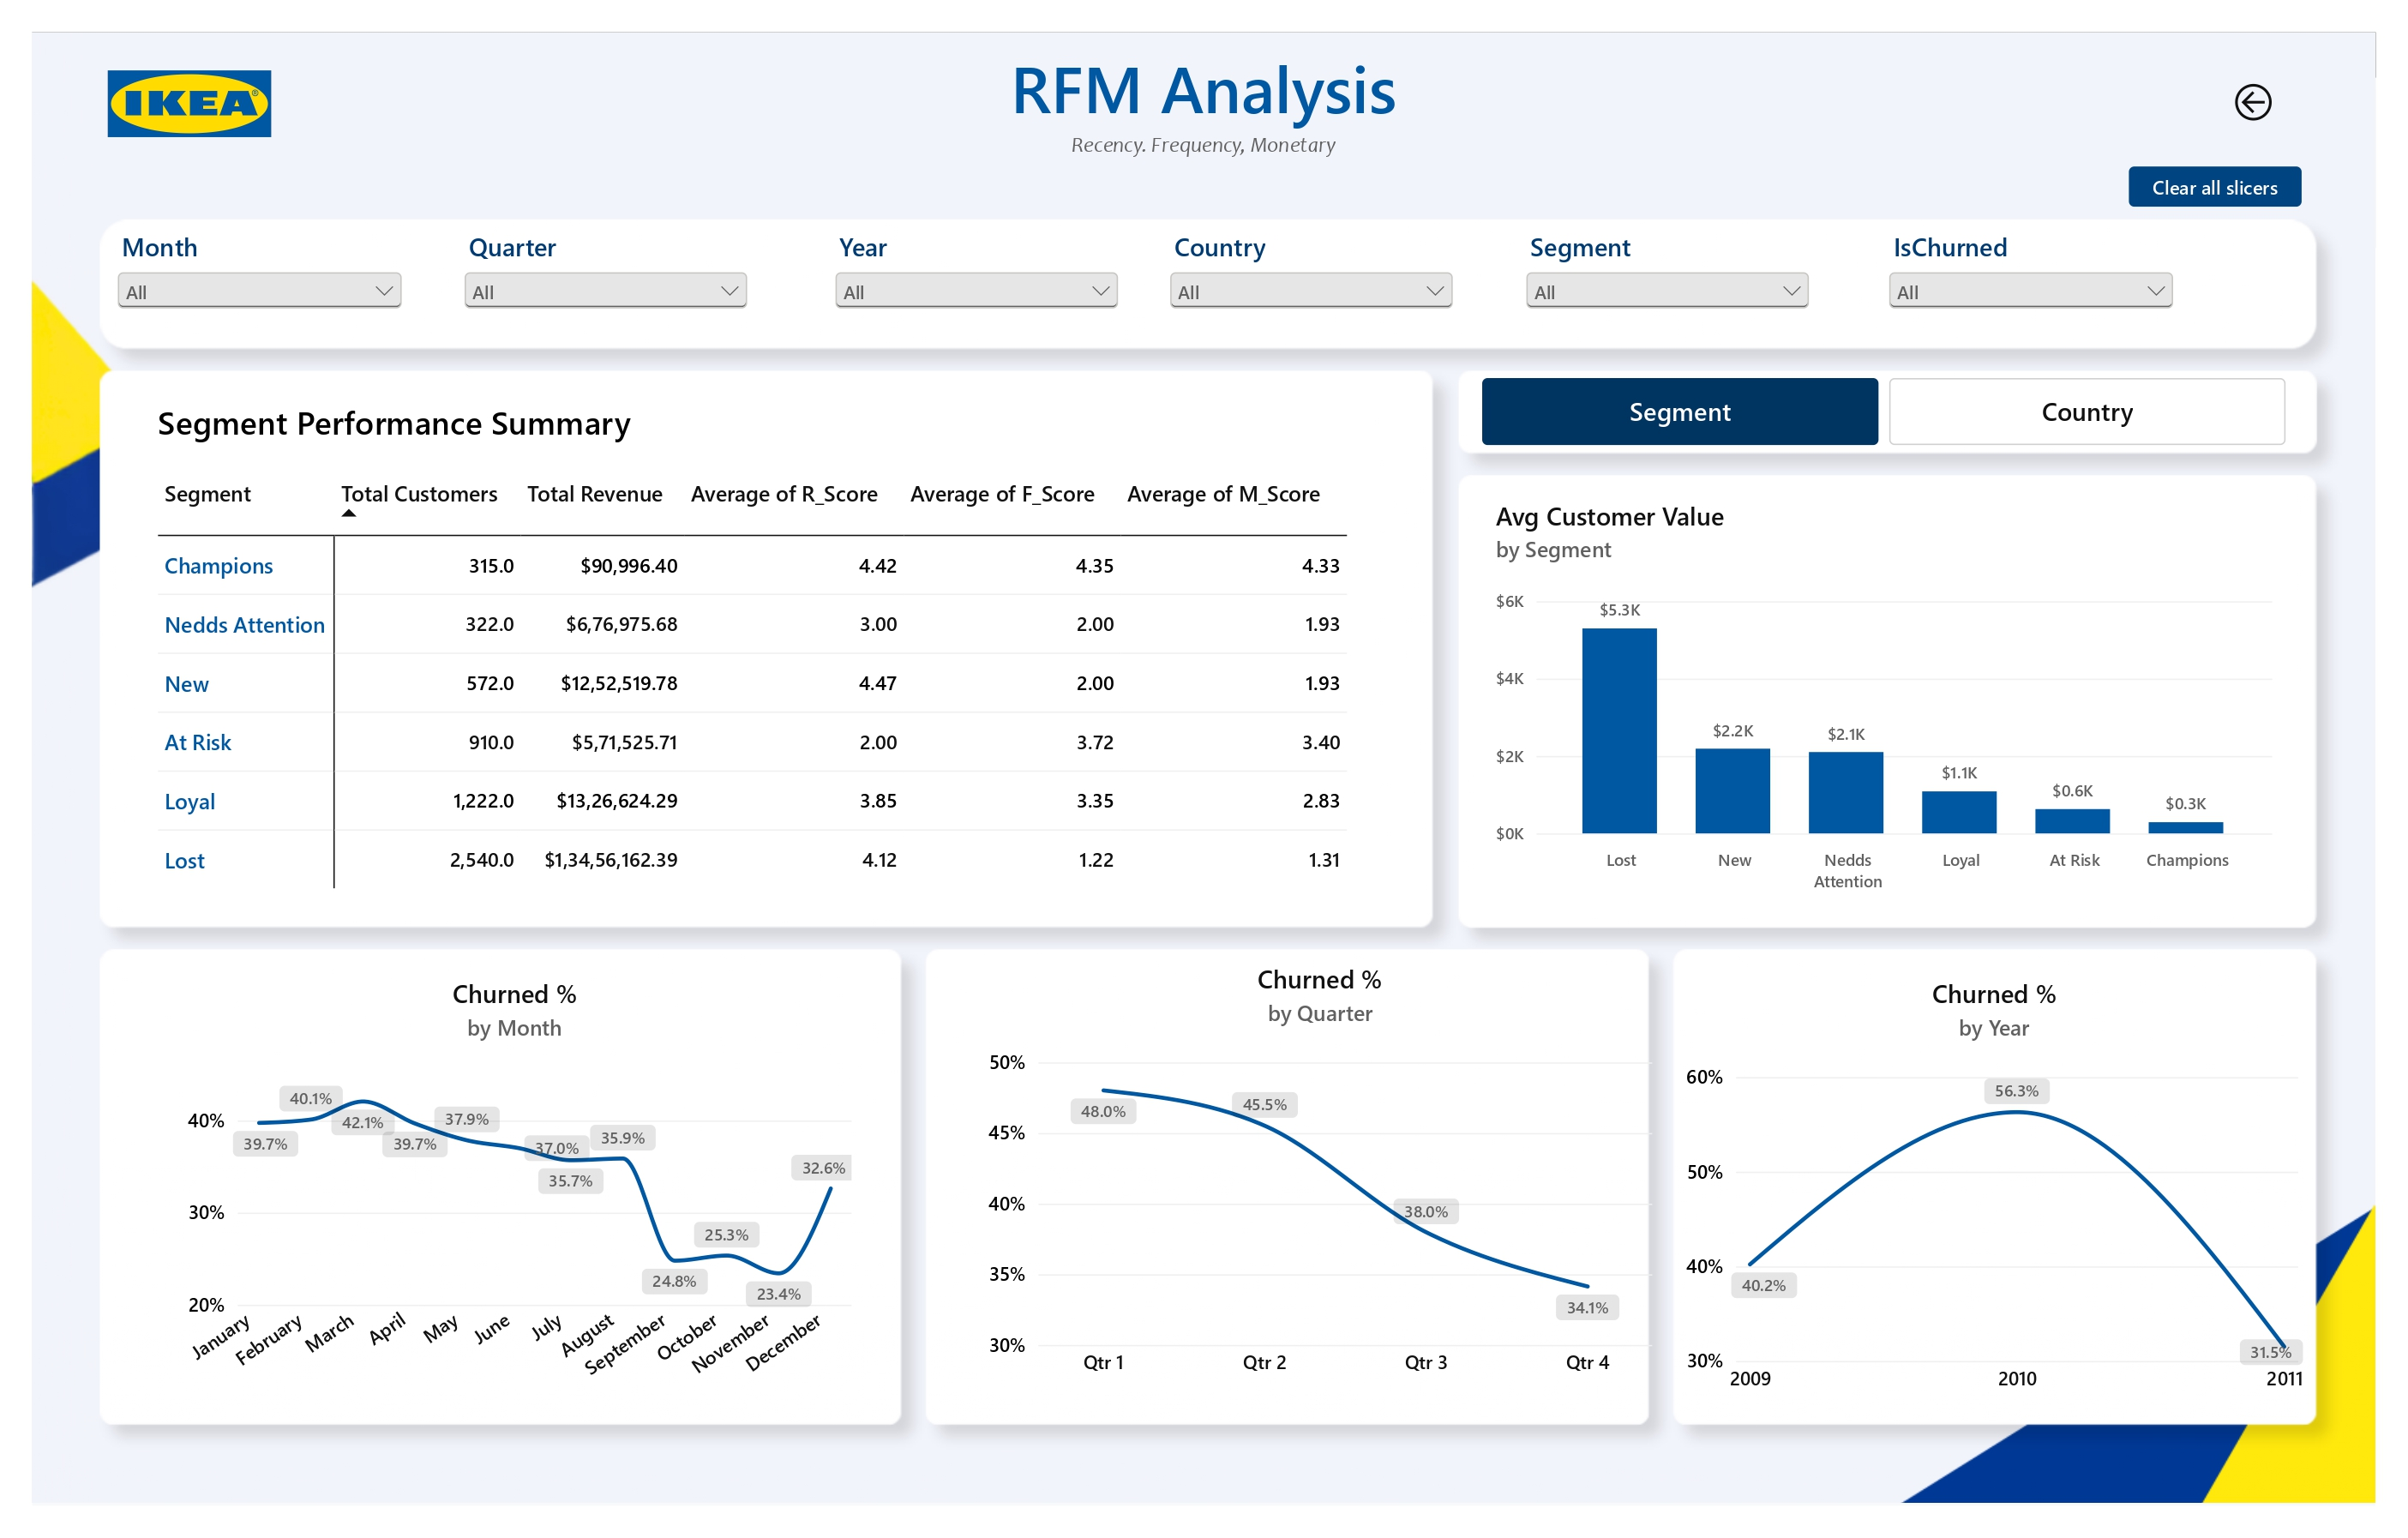

The page's visual inventory and layout, read from the dashboard file:
{"tool":"powerbi","page":{"name":"RFM Analysis","canvas":[1750,1100],"ordinal":1},"visuals":[{"type":"columnChart","fields":{"Category":["Sheet1.Segment"],"Y":["Sheet1.Avg Customer Value"]},"box":[1076.3,333.8,612.5,326.2],"z":0,"group":"g1"},{"type":"lineChart","fields":{"Category":["Sheet1.InvoiceDate.Variation.Date Hierarchy.Month"],"Y":["Sheet1.Churned %"]},"box":[93,691.2,535.1,344.6],"z":0},{"type":"slicer","fields":{"Values":["Sheet1.InvoiceDate.Variation.Date Hierarchy.Month"]},"box":[59.5,147.3,221.6,83.8],"z":1000},{"type":"pivotTable","title":"Segment Performance Summary","fields":{"Rows":["Sheet1.Segment"],"Values":["Sheet1.Total Customers","Sheet1.Total Revenue","Avg(Sheet1.R_Score)","Avg(Sheet1.F_Score)","Avg(Sheet1.M_Score)"]},"box":[77.5,260,922.5,402.5],"z":1000,"group":"g1"},{"type":"lineChart","fields":{"Category":["Sheet1.InvoiceDate.Variation.Date Hierarchy.Quarter"],"Y":["Sheet1.Churned %"]},"box":[698,679.6,528.4,344.6],"z":2000},{"type":"slicer","fields":{"Values":["Sheet1.InvoiceDate.Variation.Date Hierarchy.Year"]},"box":[594.6,147.3,221.6,83.8],"z":3000},{"type":"lineChart","fields":{"Category":["Sheet1.InvoiceDate.Variation.Date Hierarchy.Year"],"Y":["Sheet1.Churned %"]},"box":[1218.7,691,493.2,344.6],"z":4000},{"type":"slicer","fields":{"Values":["Sheet1.InvoiceDate.Variation.Date Hierarchy.Quarter"]},"box":[317.6,147.3,221.6,83.8],"z":5000},{"type":"image","box":[0,0,235,106.2],"z":6000},{"type":"slicer","fields":{"Values":["Sheet1.IsChurned"]},"box":[1382.4,147.3,221.6,83.8],"z":7000},{"type":"slicer","fields":{"Values":["Sheet1.Segment"]},"box":[1110.8,147.3,221.6,83.8],"z":8000},{"type":"slicer","fields":{"Values":["Sheet1.Country"]},"box":[844.6,147.3,221.6,83.8],"z":9000},{"type":"bookmarkNavigator","box":[1082.5,257.5,600,50],"z":11000},{"type":"textbox","title":"RFM Analysis","box":[628.8,7.5,492.5,122.5],"z":12000},{"type":"actionButton","box":[1603.8,3.8,110,96.2],"z":13000},{"type":"actionButton","box":[1566.2,100,128.8,30],"z":14000},{"type":"group","id":"g1","title":"Segment","box":[77.5,260,1611.2,402.5],"z":16000}]}

Visuals, with their boxes on the page's 1750x1100 design canvas (x1, y1, x2, y2). These are canvas units, not pixel positions in the 2408x1538 screenshot, which may show the page scaled, cropped or inside an application window:
columnChart - Sheet1.Segment x Sheet1.Avg Customer Value: (x1=1076, y1=334, x2=1689, y2=660)
lineChart - Sheet1.InvoiceDate.Variation.Date Hierarchy.Month x Sheet1.Churned %: (x1=93, y1=691, x2=628, y2=1036)
slicer - Sheet1.InvoiceDate.Variation.Date Hierarchy.Month: (x1=60, y1=147, x2=281, y2=231)
"Segment Performance Summary" pivotTable: (x1=78, y1=260, x2=1000, y2=662)
lineChart - Sheet1.InvoiceDate.Variation.Date Hierarchy.Quarter x Sheet1.Churned %: (x1=698, y1=680, x2=1226, y2=1024)
slicer - Sheet1.InvoiceDate.Variation.Date Hierarchy.Year: (x1=595, y1=147, x2=816, y2=231)
lineChart - Sheet1.InvoiceDate.Variation.Date Hierarchy.Year x Sheet1.Churned %: (x1=1219, y1=691, x2=1712, y2=1036)
slicer - Sheet1.InvoiceDate.Variation.Date Hierarchy.Quarter: (x1=318, y1=147, x2=539, y2=231)
image: (x1=0, y1=0, x2=235, y2=106)
slicer - Sheet1.IsChurned: (x1=1382, y1=147, x2=1604, y2=231)
slicer - Sheet1.Segment: (x1=1111, y1=147, x2=1332, y2=231)
slicer - Sheet1.Country: (x1=845, y1=147, x2=1066, y2=231)
bookmarkNavigator: (x1=1082, y1=258, x2=1682, y2=308)
"RFM Analysis" textbox: (x1=629, y1=8, x2=1121, y2=130)
actionButton: (x1=1604, y1=4, x2=1714, y2=100)
actionButton: (x1=1566, y1=100, x2=1695, y2=130)
"Segment" group: (x1=78, y1=260, x2=1689, y2=662)
